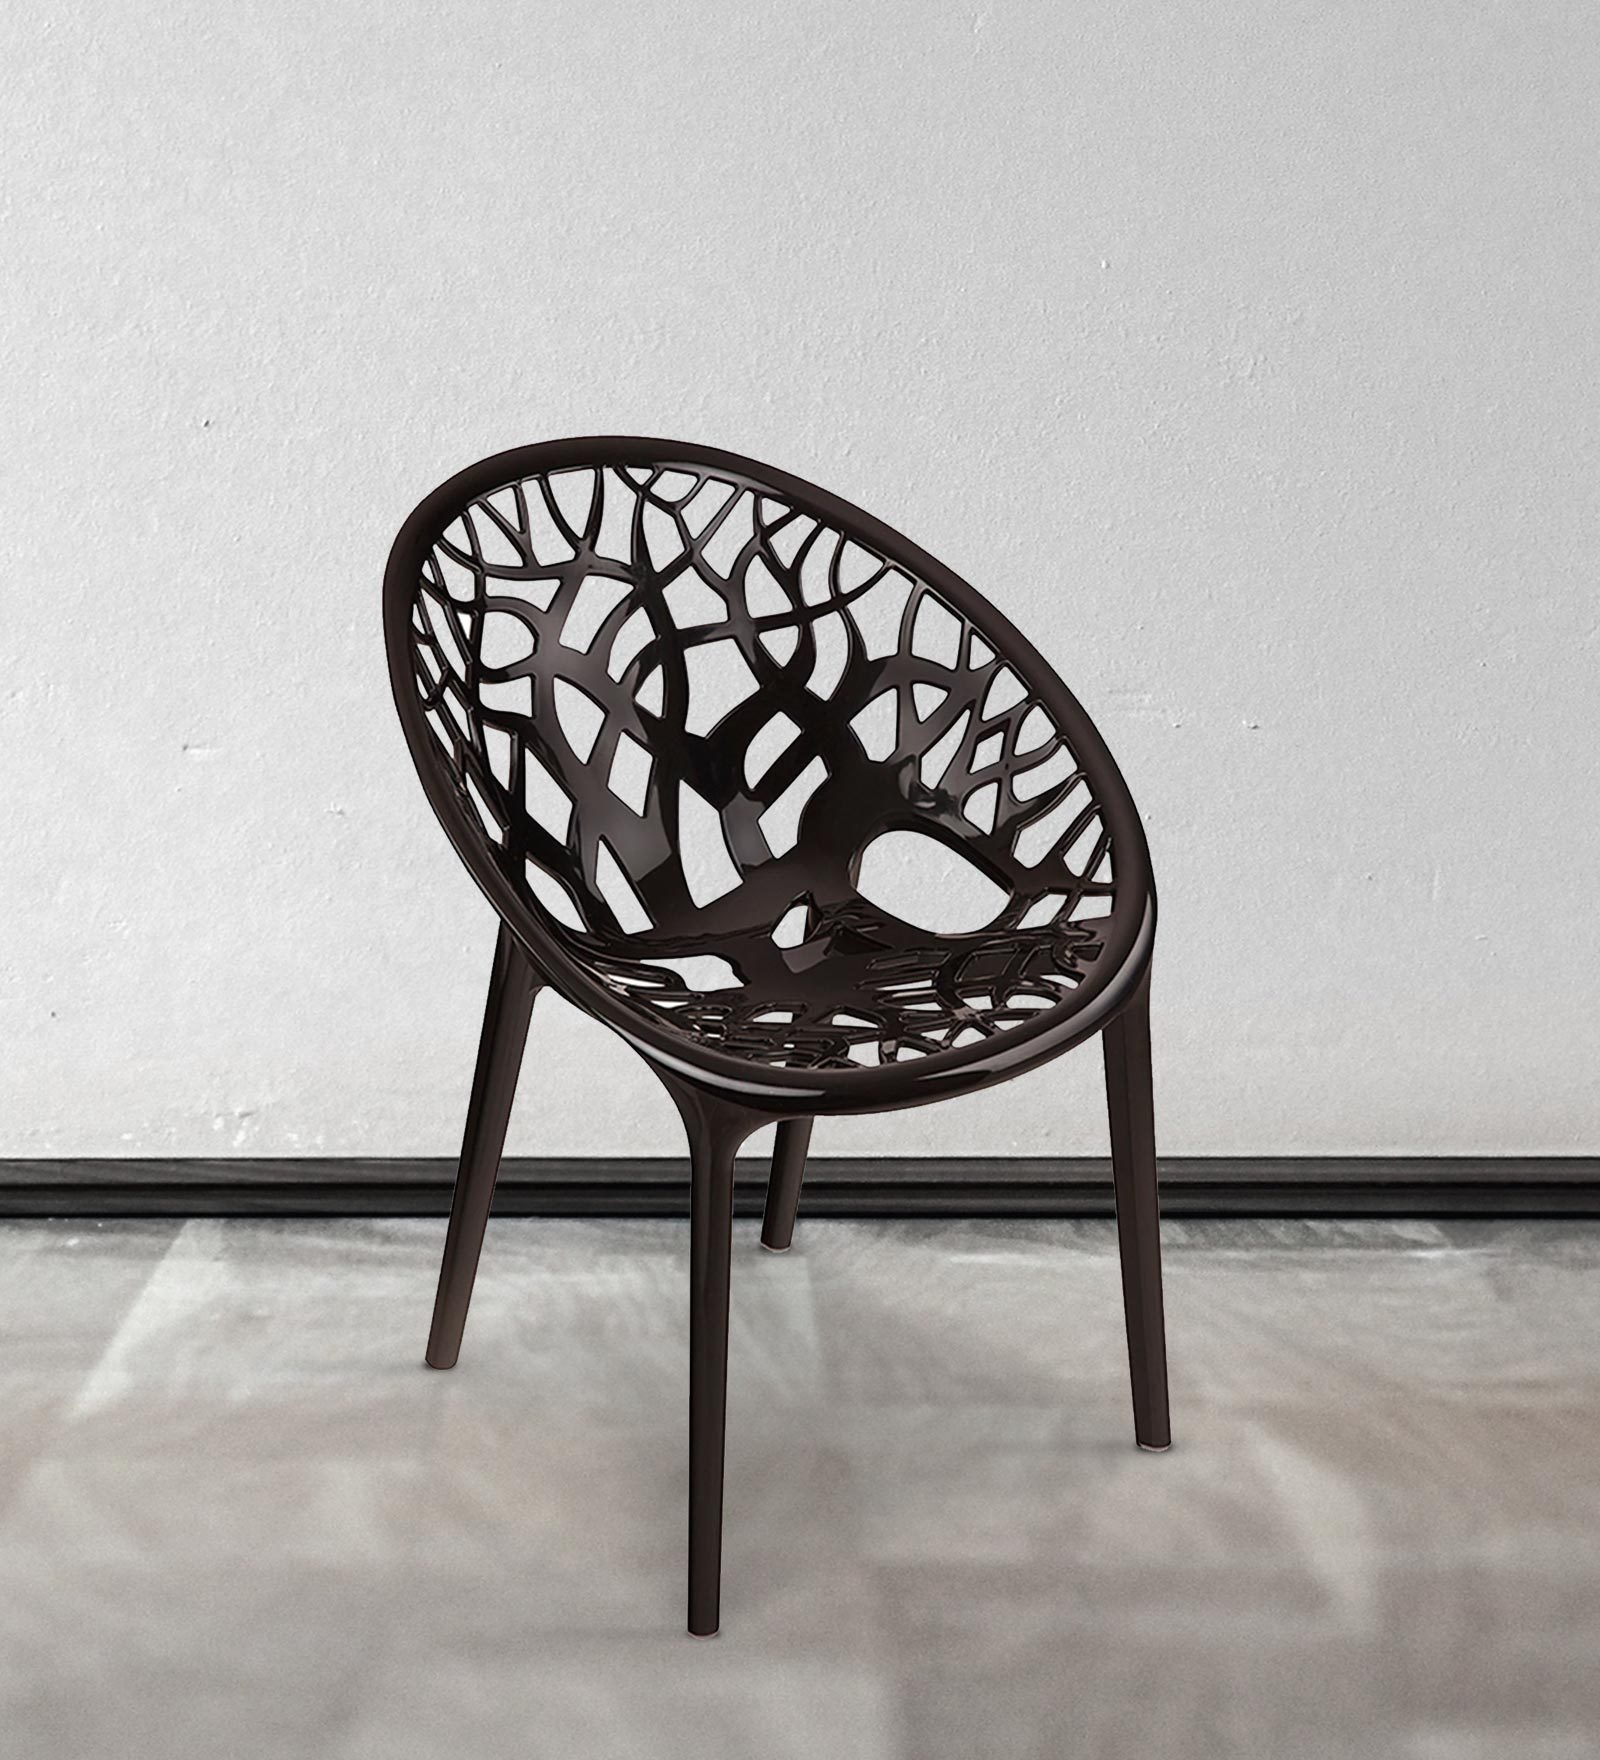Crystal Designer Chair in Black Colour by Nilkamal: (307, 406, 1225, 1656)
